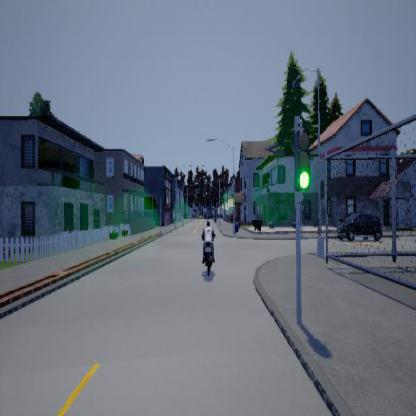motobike: (200, 218, 217, 276)
traffic_light_green: (293, 118, 310, 208)
vehicle: (336, 212, 382, 241)
